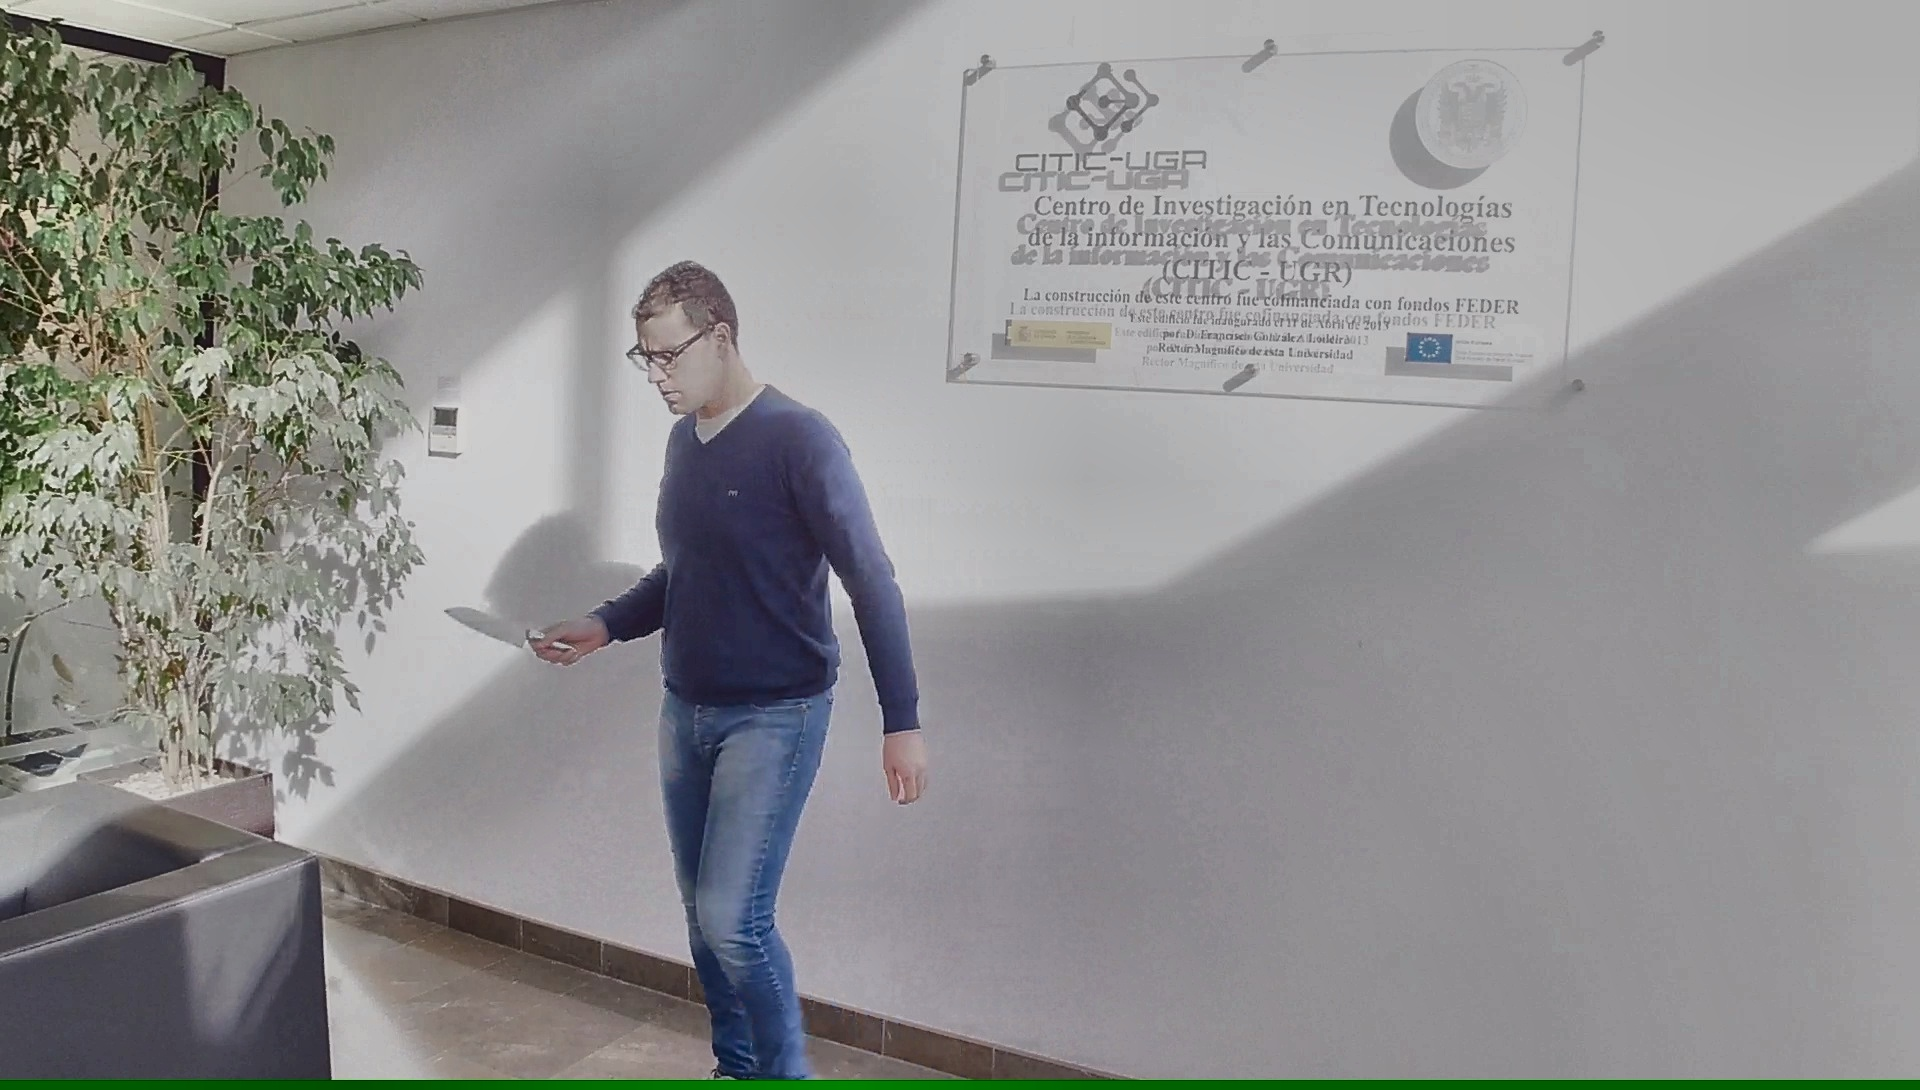knife: (439, 596, 582, 671)
